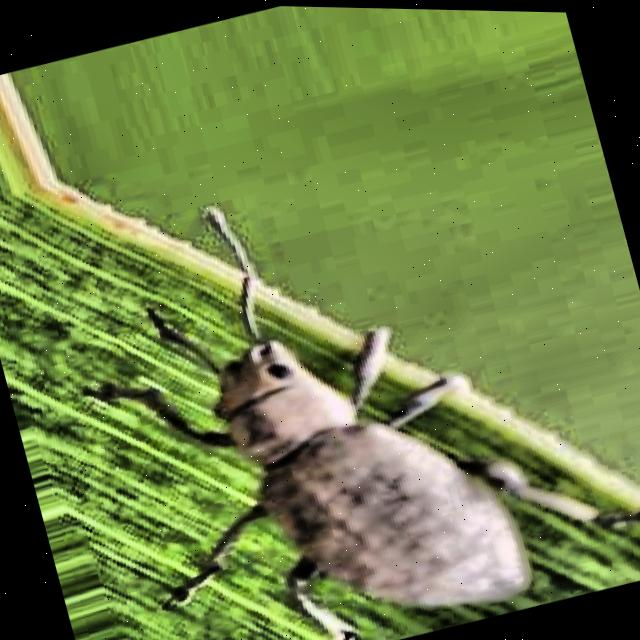Stink bug: (19, 216, 640, 640)
